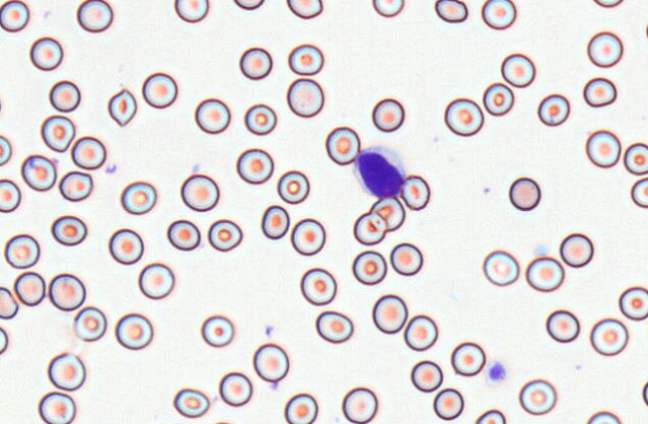MONO: (353, 146, 408, 198)
PLT: (486, 361, 507, 386)
RBC: (47, 352, 86, 391), (589, 317, 628, 356), (444, 97, 483, 136), (286, 77, 324, 117), (114, 312, 153, 350), (180, 173, 219, 211), (252, 342, 289, 382), (48, 273, 86, 311), (371, 294, 407, 334), (518, 378, 556, 415), (299, 267, 336, 305), (525, 256, 564, 292), (585, 129, 621, 168), (341, 386, 378, 423), (482, 249, 519, 286), (325, 126, 360, 165), (20, 154, 56, 191), (138, 262, 174, 299), (236, 148, 273, 184), (194, 97, 230, 134), (40, 114, 75, 152), (587, 31, 623, 67), (369, 195, 405, 231), (108, 228, 144, 264), (141, 72, 177, 108), (403, 314, 438, 351), (290, 218, 325, 255), (351, 250, 387, 285), (4, 233, 40, 268), (38, 391, 76, 424), (315, 310, 353, 343), (450, 341, 485, 376), (73, 305, 107, 341), (120, 180, 156, 214), (218, 371, 252, 406), (207, 218, 242, 252), (29, 36, 63, 71), (71, 135, 106, 169), (559, 232, 593, 267), (500, 53, 535, 87), (76, 0, 113, 32), (50, 214, 87, 246), (389, 242, 423, 276), (371, 97, 404, 132), (287, 43, 323, 75), (172, 387, 209, 418), (353, 211, 386, 245), (545, 309, 579, 342), (200, 314, 234, 347), (239, 46, 272, 80), (508, 176, 540, 211), (13, 271, 45, 306), (283, 392, 318, 424), (399, 174, 430, 210), (537, 93, 570, 126), (166, 219, 200, 251), (482, 82, 514, 116), (277, 170, 309, 204), (410, 360, 443, 392), (48, 79, 80, 112), (58, 170, 92, 201), (481, 0, 516, 30), (244, 103, 276, 135), (618, 286, 648, 320), (260, 204, 289, 239), (433, 387, 463, 420), (583, 77, 616, 107), (0, 0, 29, 32), (623, 142, 648, 175), (174, 0, 209, 22), (434, 0, 468, 22), (0, 178, 21, 212), (286, 0, 323, 19), (0, 286, 18, 319), (630, 176, 648, 208), (372, 0, 404, 17), (474, 408, 505, 424), (586, 410, 621, 424), (0, 134, 11, 165), (233, 0, 264, 10), (592, 0, 625, 8), (0, 326, 8, 354), (642, 380, 648, 406), (209, 420, 238, 424), (645, 315, 648, 345), (0, 90, 3, 119), (645, 17, 648, 41)
